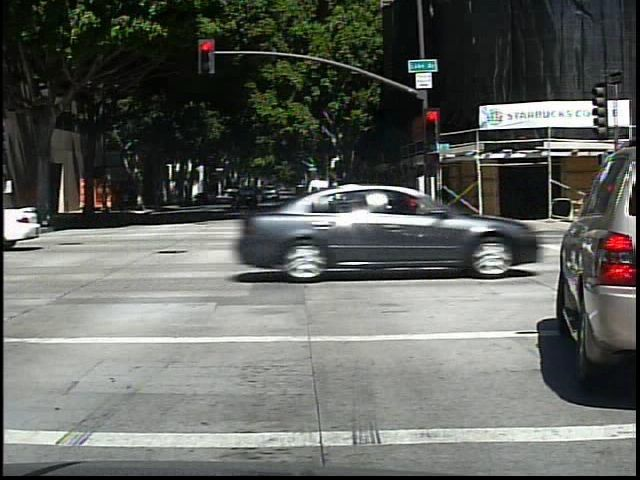person: (96, 185, 111, 219)
